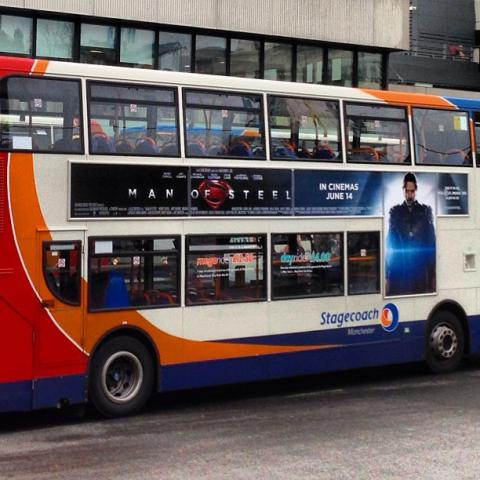bus: (1, 54, 479, 424)
